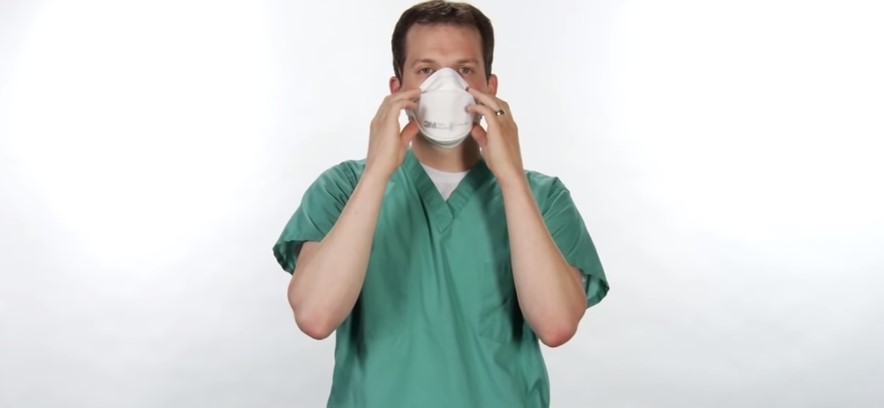face_with_mask: (387, 2, 497, 151)
